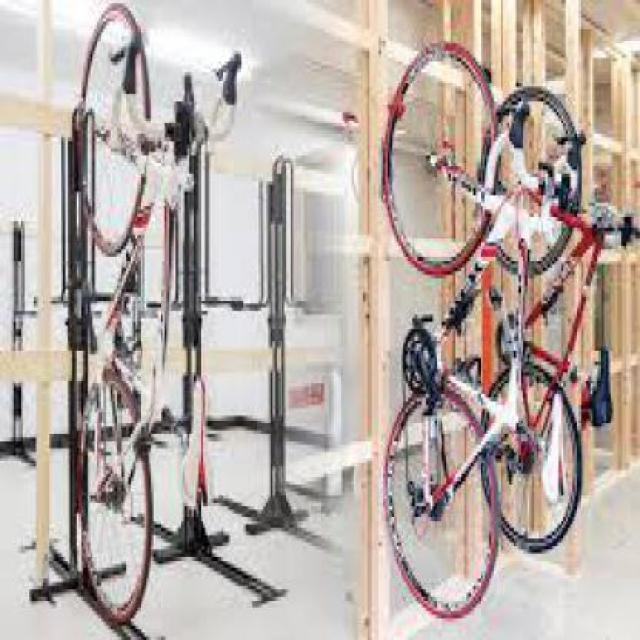bicycle: (42, 1, 241, 621), (355, 19, 524, 638), (482, 63, 627, 560)
